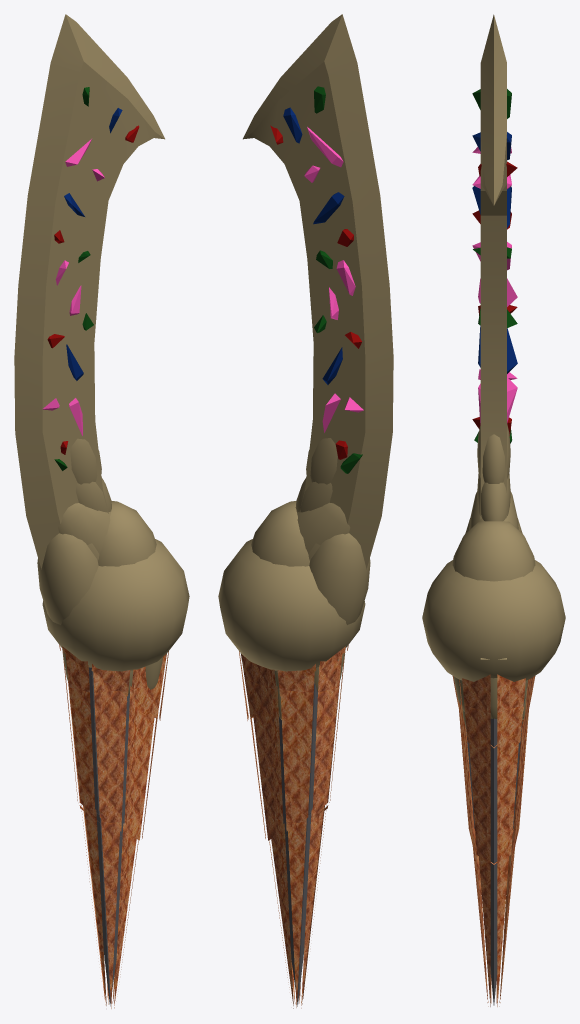
File: ice.obj
3 views of the same model, side by side, from view 1: azimuth 30°, elevation 25°; view 2: azimuth 150°, elevation 25°; view 3: azimuth 270°, elevation 25° (orthographic). The views are drawn at different scales.
Parts seen in each view (by area): view 1: Meshpart8, Cone2, Meshpart20, Cone3, Meshpart21, Meshpart19, Cone1, Meshpart24, Meshpart18, Meshpart22, Cone4, Cone7; view 2: Meshpart8, Cone7, Meshpart20, Cone3, Meshpart21, Meshpart19, Cone1, Meshpart24, Meshpart18, Meshpart22, Cone4, Cone2 (+2 smaller); view 3: Meshpart20, Meshpart8, Cone4, Meshpart19, Cone1, Cone7, Cone2, Meshpart18, Meshpart22, Meshpart24, Meshpart13, Meshpart10.
Boxes of the visible parts, box(x1,y1,x2,y2) form: Meshpart8: box(14, 14, 164, 569); Cone2: box(91, 654, 166, 1008); Meshpart20: box(42, 539, 189, 671); Cone3: box(59, 644, 106, 1005); Meshpart21: box(37, 533, 98, 624); Meshpart19: box(98, 501, 156, 566); Cone1: box(88, 667, 154, 1006); Meshpart24: box(58, 503, 110, 553); Meshpart18: box(70, 438, 101, 484); Meshpart22: box(76, 477, 111, 512); Cone4: box(112, 651, 168, 1003); Cone7: box(68, 682, 108, 1004); Meshpart8: box(243, 14, 393, 569); Cone7: box(241, 654, 315, 1008); Meshpart20: box(218, 539, 365, 671); Cone3: box(301, 644, 348, 1008); Meshpart21: box(309, 533, 370, 624); Meshpart19: box(251, 501, 309, 566); Cone1: box(278, 667, 317, 1006); Meshpart24: box(296, 502, 350, 553); Meshpart18: box(306, 438, 337, 484); Meshpart22: box(295, 477, 332, 512); Cone4: box(239, 651, 295, 1003); Cone2: box(299, 681, 339, 1004); Meshpart20: box(422, 560, 565, 681); Meshpart8: box(480, 14, 506, 659); Cone4: box(462, 674, 525, 1006); Meshpart19: box(452, 521, 535, 581); Cone1: box(466, 695, 525, 1005); Cone7: box(499, 676, 535, 1006); Cone2: box(452, 676, 488, 1006); Meshpart18: box(477, 424, 510, 483); Meshpart22: box(477, 474, 510, 521); Meshpart24: box(469, 491, 518, 529); Meshpart13: box(478, 326, 517, 373); Meshpart10: box(478, 377, 517, 425).
Size of the model in its own units: 0.6388 by 3.7 by 0.4945.
7 materials, 1 textured.
